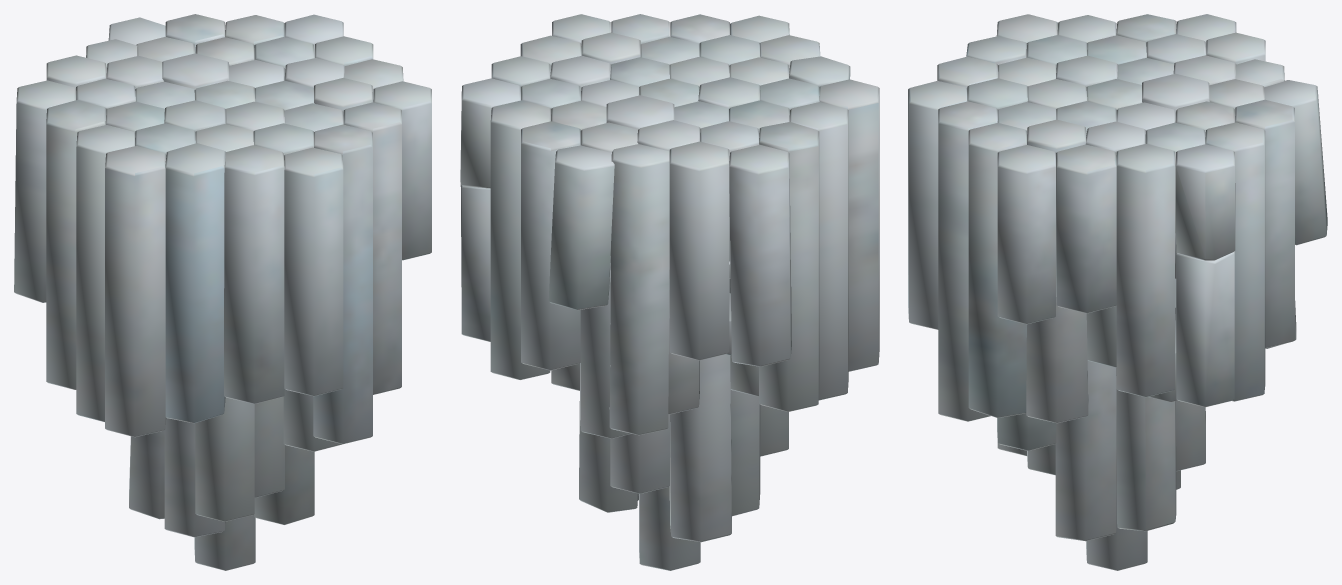
The model's file is P_RockHexic_Platform02.obj.
3 renders of one model, left to right at view 1: azimuth 30°, elevation 25°; view 2: azimuth 150°, elevation 25°; view 3: azimuth 270°, elevation 25°, orthographic.
Size of the model in its own units: 21.54 by 29.18 by 23.71.
